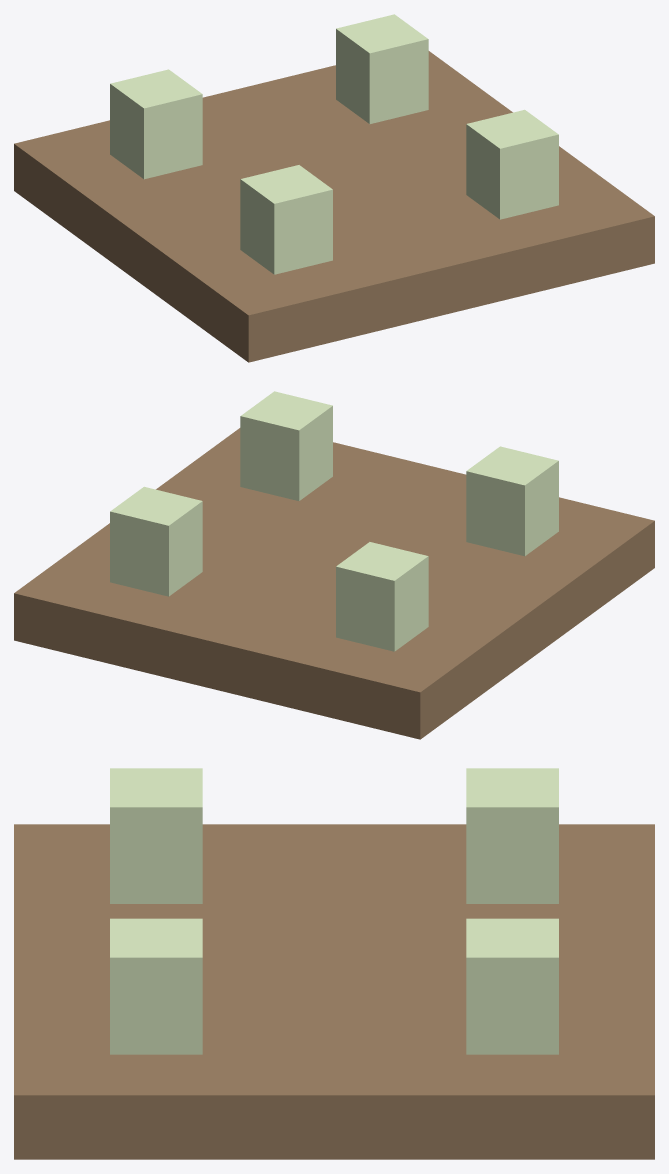
The model's file is Prop_DS_Crop_Groat_S1_V3.glb.
3 renders of one model, top to bottom at view 1: azimuth 30°, elevation 25°; view 2: azimuth 150°, elevation 25°; view 3: azimuth 270°, elevation 25°, orthographic. The views are drawn at different scales.
Parts seen in each view (by area): view 1: Prop_DS_Crop_Groat_S1_V3; view 2: Prop_DS_Crop_Groat_S1_V3; view 3: Prop_DS_Crop_Groat_S1_V3.
Boxes of the visible parts, <box> form: Prop_DS_Crop_Groat_S1_V3: <box>14,14,654,362</box>; Prop_DS_Crop_Groat_S1_V3: <box>14,391,654,739</box>; Prop_DS_Crop_Groat_S1_V3: <box>14,768,654,1159</box>.
Bounding box in the file's own units: 0.9 × 0.25 × 0.9.
